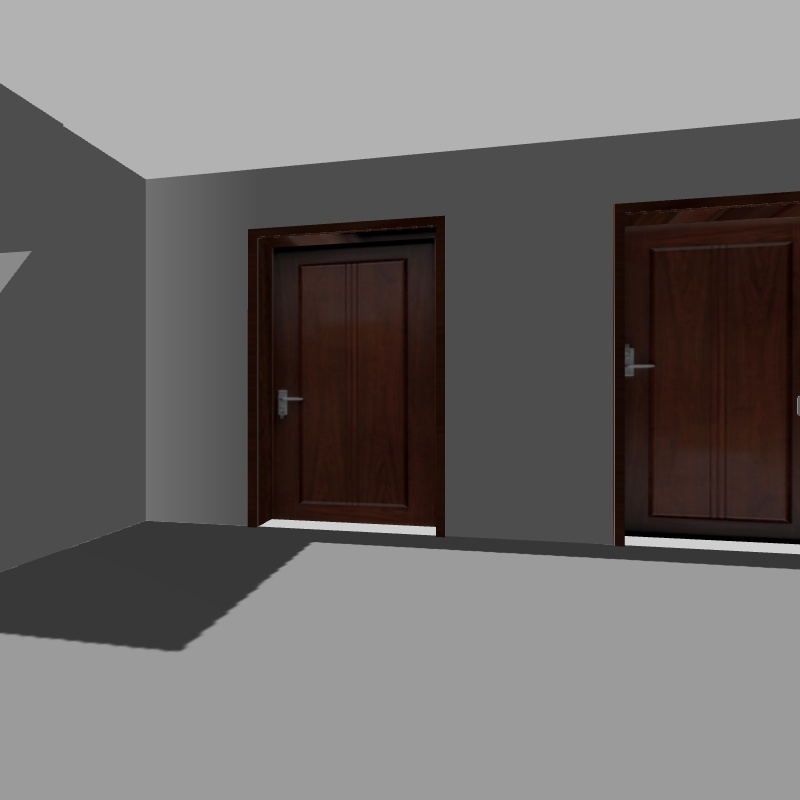handle: (618, 336, 655, 384), (267, 381, 304, 422)
